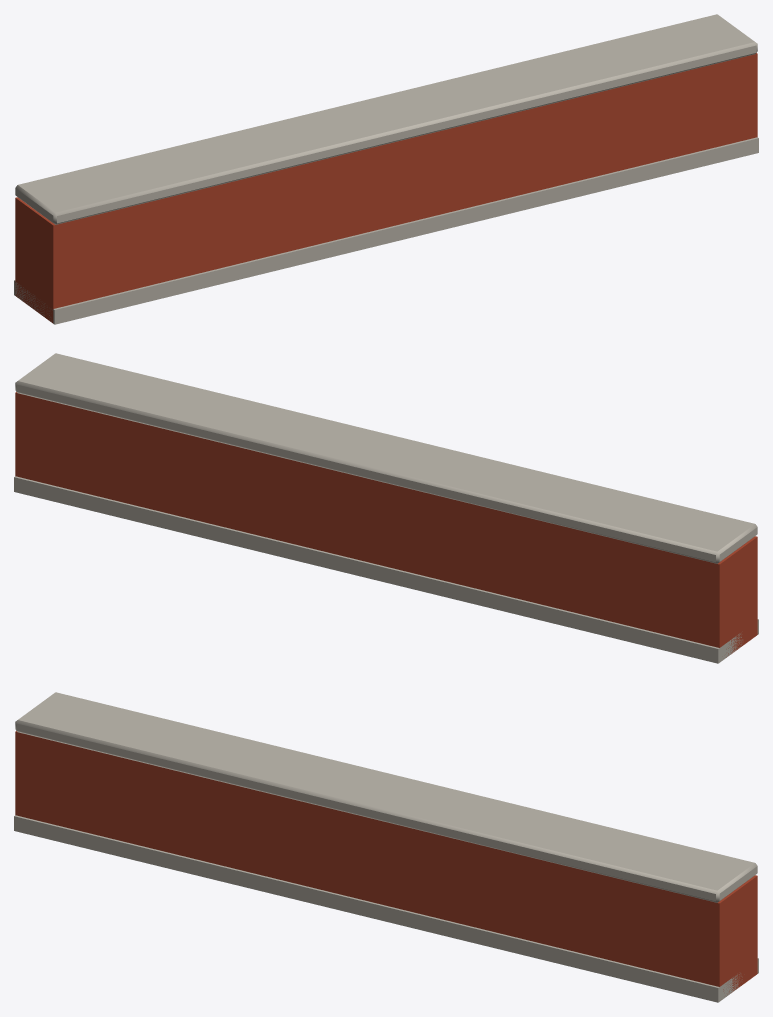
The model's file is low_wall.glb.
3 views of the same model, one above another, from view 1: azimuth 30°, elevation 25°; view 2: azimuth 150°, elevation 25°; view 3: azimuth 330°, elevation 25° (orthographic).
Parts seen in each view (by area): view 1: body; view 2: body; view 3: body.
Part boxes in pixels (<box>): body: <box>14,14,758,324</box>; body: <box>14,353,758,663</box>; body: <box>14,692,758,1002</box>.
Size of the model in its own units: 3 by 0.45 by 0.3.
